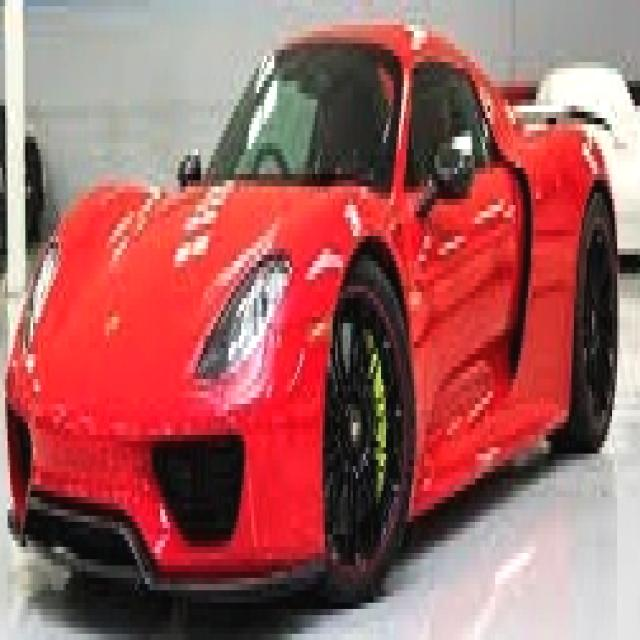red: (9, 31, 611, 627)
